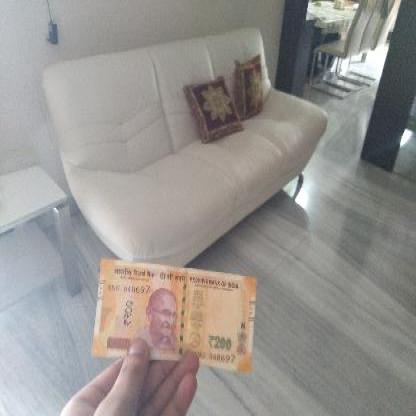New200Front: (95, 260, 251, 369)
